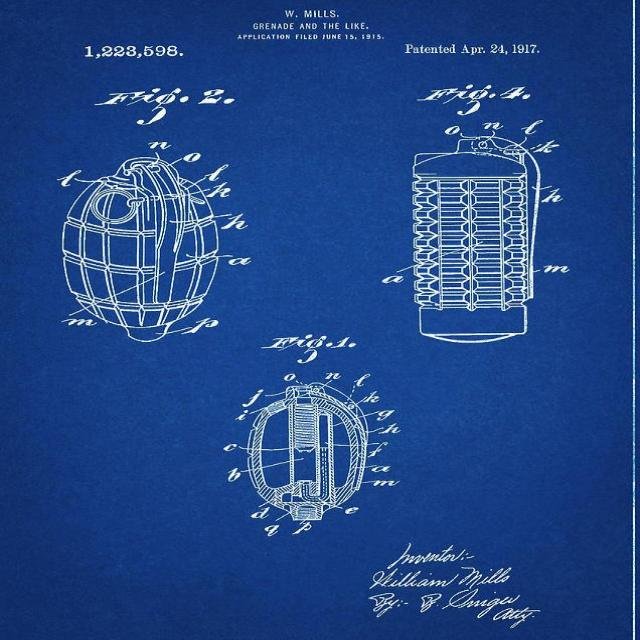grenade: (62, 157, 220, 342), (414, 138, 541, 344), (252, 385, 368, 523)
